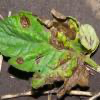Potato leaf early blight: (0, 8, 99, 96)
